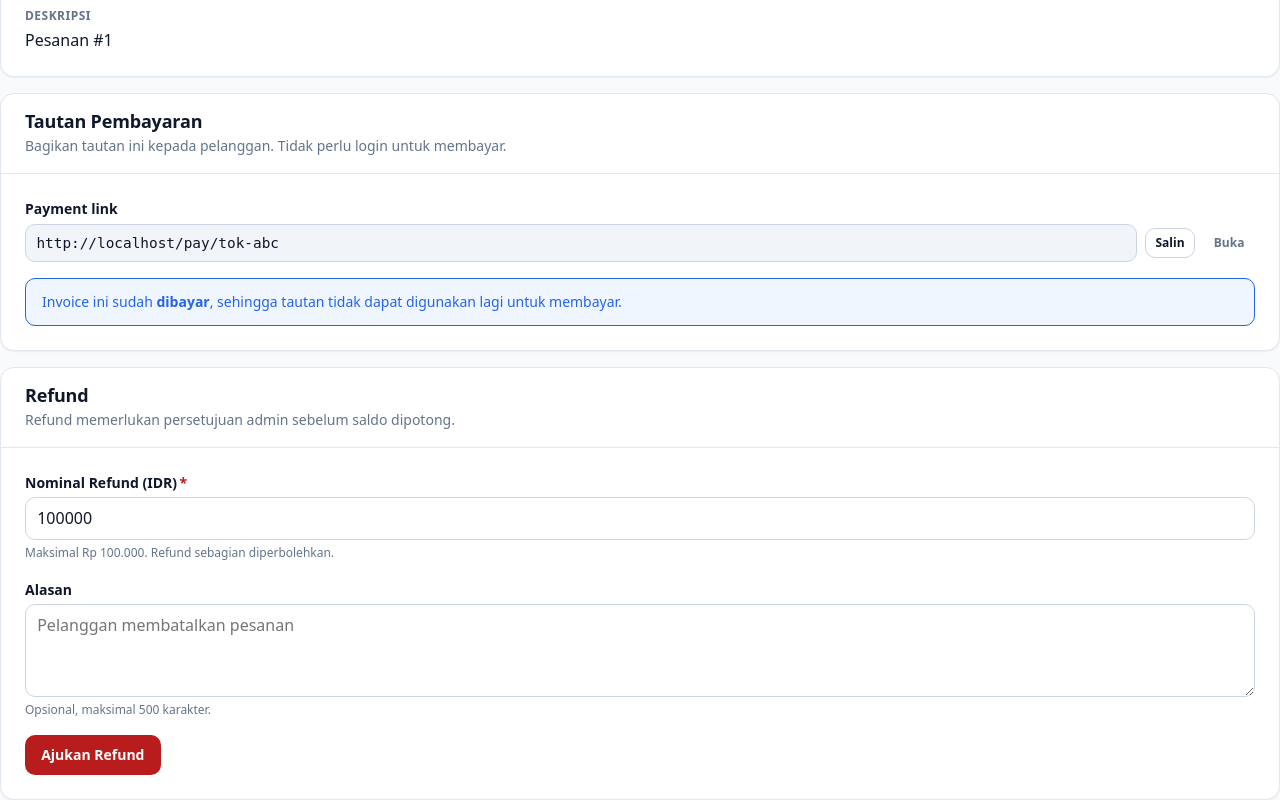
Test: submitting a refund › surfaces the backend rejection when the cumulative cap is exceeded
The width and height of the screenshot is (1280, 800).
(page scrolled)
Click the button "Ajukan Refund" at coordinates (93, 755), box [25,735,161,775]
(page scrolled)
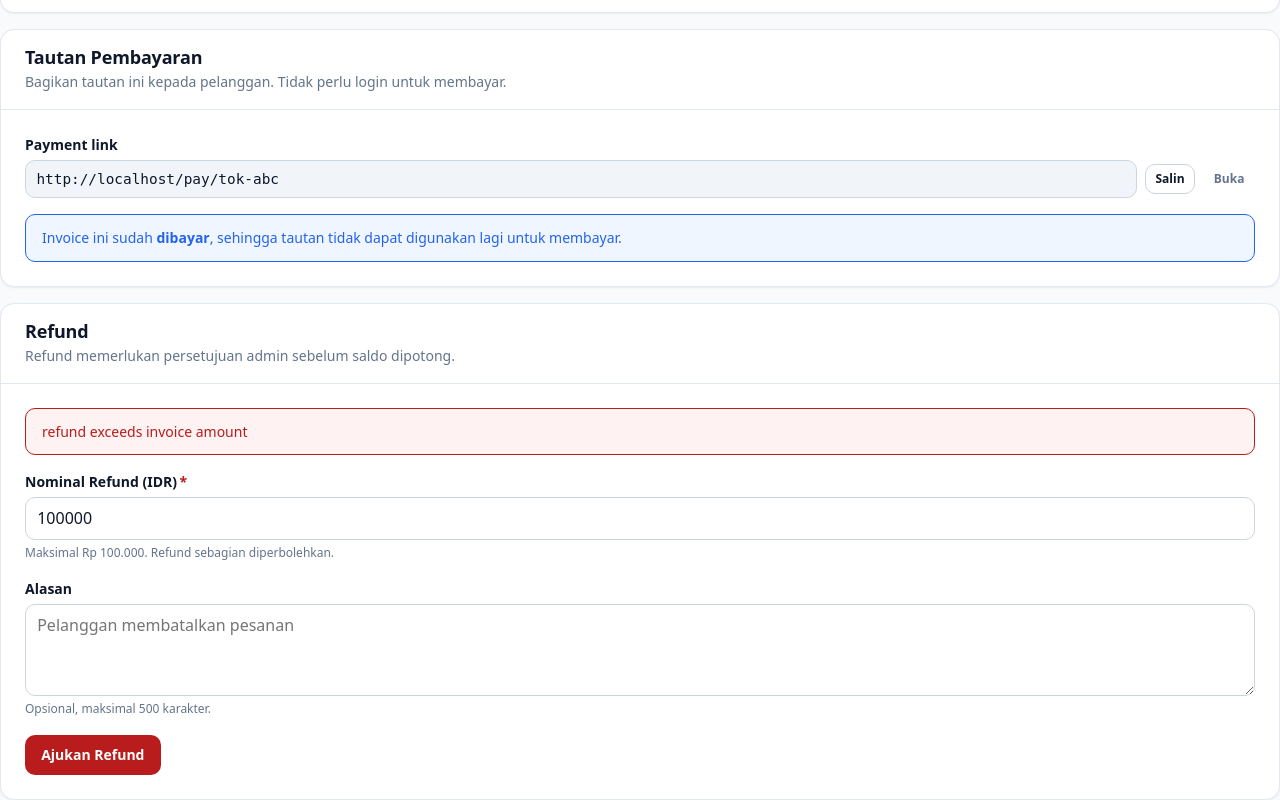
Expected: the message "refund exceeds invoice amount" is shown, [25,408,1255,455]
